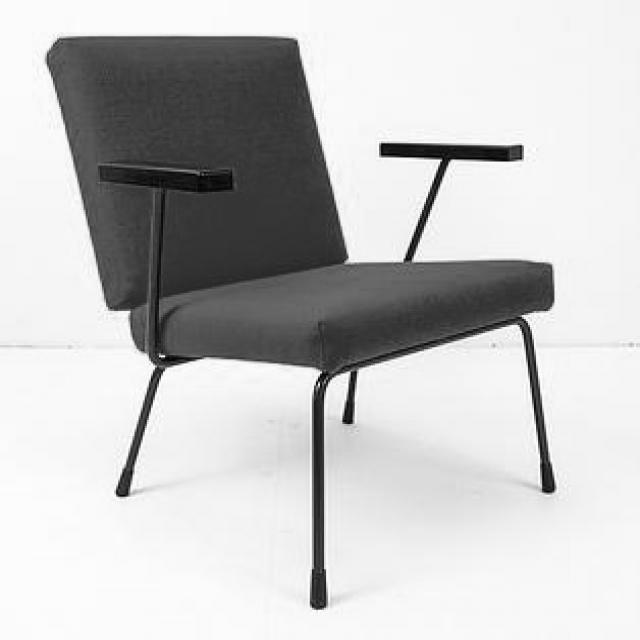chair: (43, 20, 556, 612)
